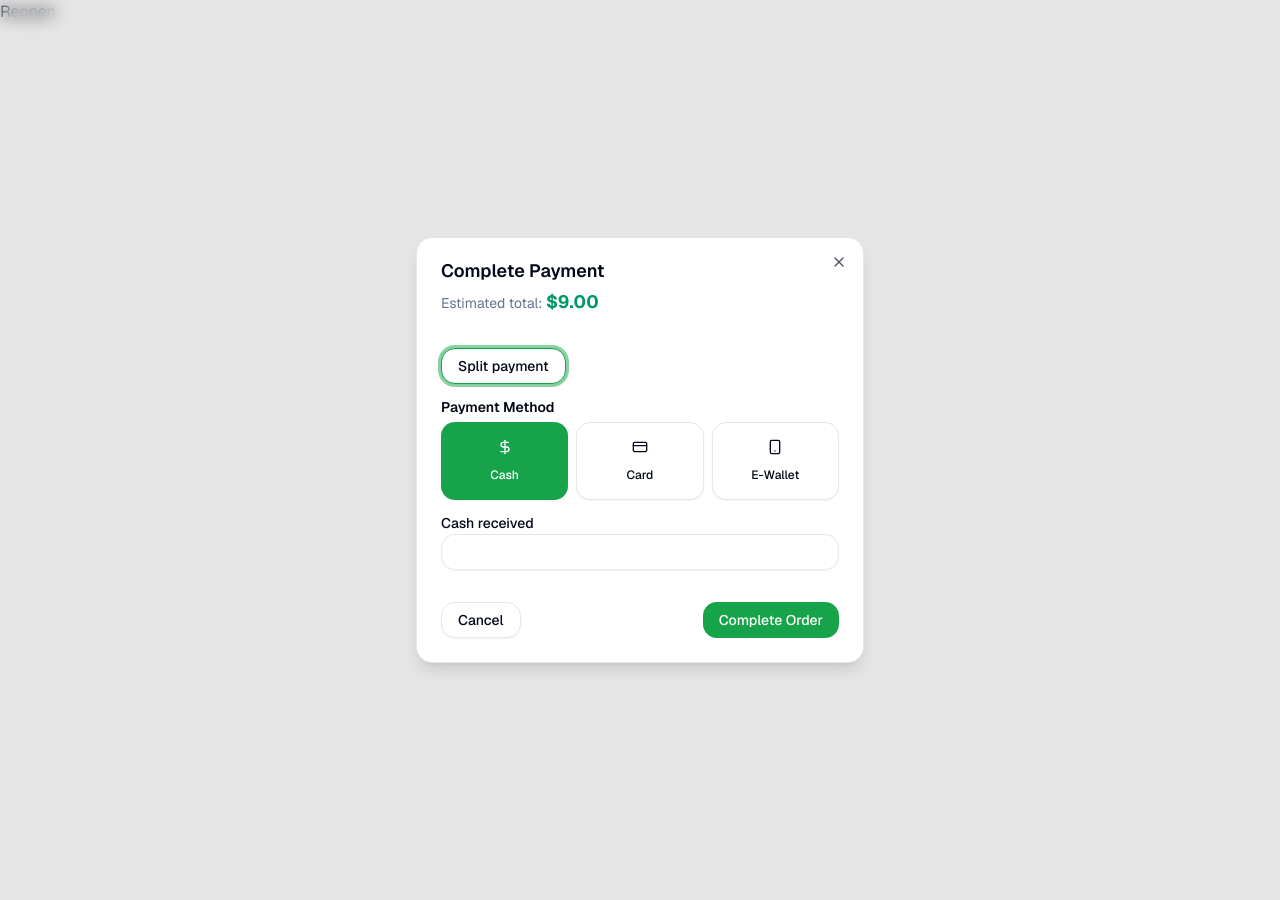
Test: PaymentDialog — cash change/short › shows "Falta" as soon as received is below the amount due
Cash is the default method, so the cash-received field is visible without any extra clicks.
Type "1" into the field labelled "Cash received". click: (640, 552)
box: [441,534,839,570]
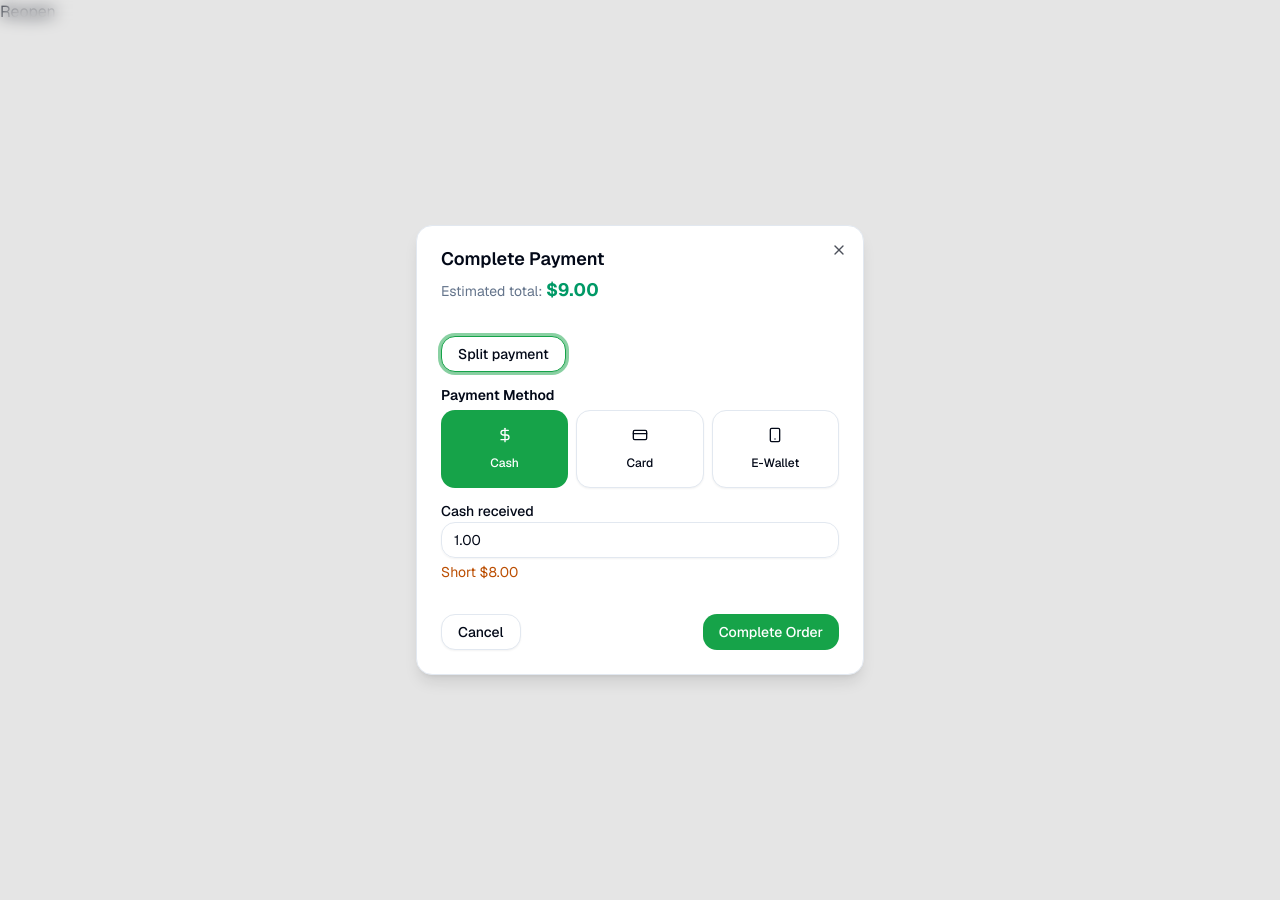
Expected: the text "Short $8.00" is shown, [441,563,518,581]
